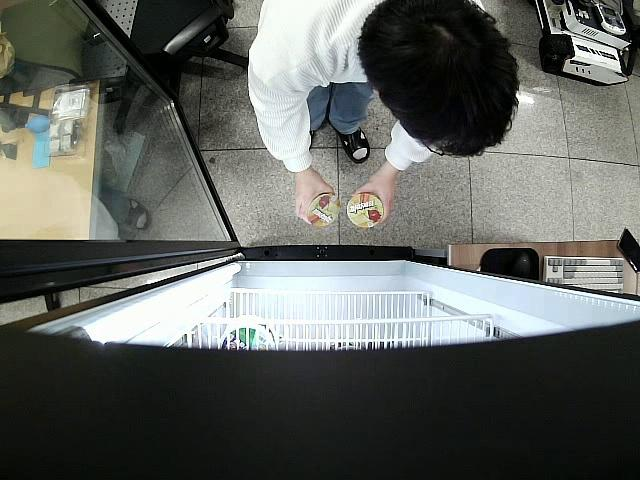00_hand: (353, 174, 395, 229), (294, 171, 334, 228)
04_chapagetti_S: (347, 193, 384, 228), (307, 194, 339, 227)
